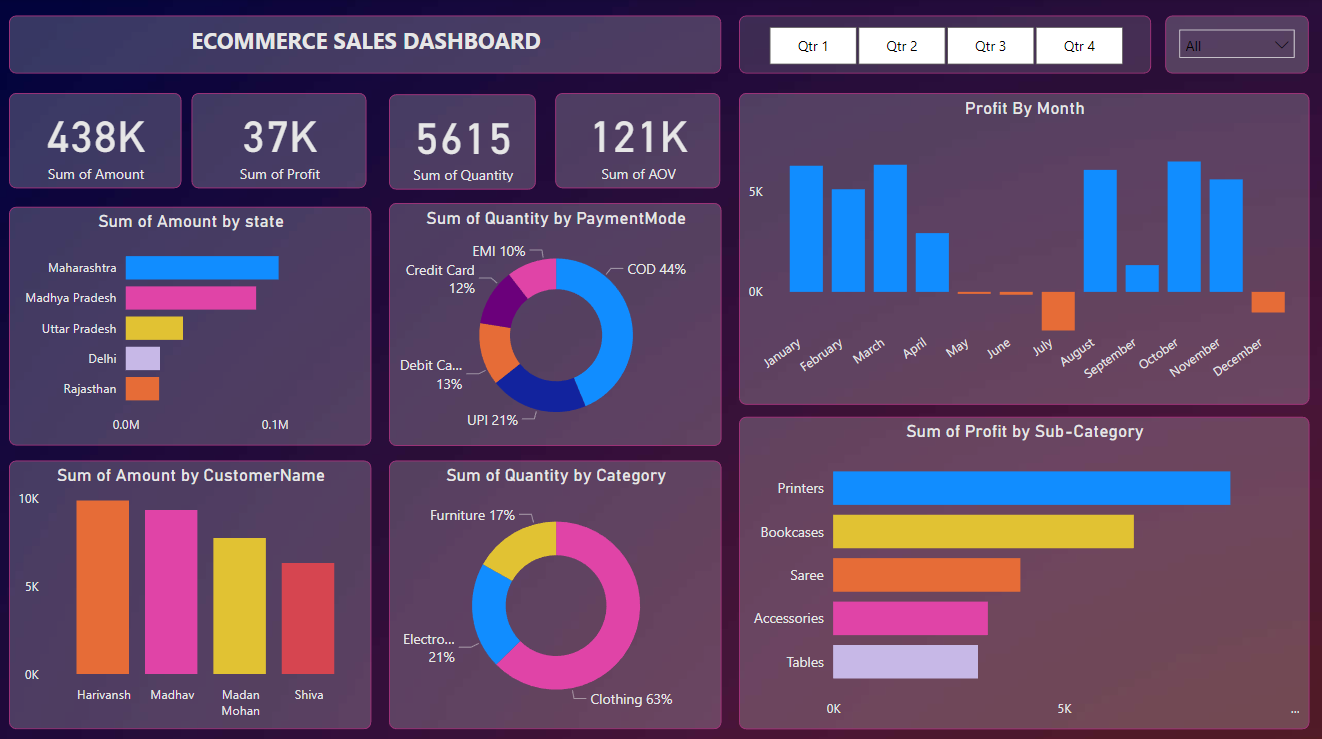

This screenshot's page, from the dashboard's own definition file:
{"tool":"powerbi","page":{"name":"Page 1","canvas":[1280,720],"ordinal":0},"visuals":[{"type":"textbox","box":[9.6,16.5,687.5,56.3],"z":0},{"type":"columnChart","title":"Profit By Month","fields":{"Category":["Orders.OrderDate.Variation.Date Hierarchy.Month"],"Y":["Details.Profit"]},"box":[713.6,91.9,550.3,300.5],"z":1000},{"type":"barChart","fields":{"Category":["Details.Sub-Category"],"Y":["Details.Profit"]},"box":[713.6,403.4,550.3,301.9],"z":2000},{"type":"donutChart","fields":{"Category":["Details.Category"],"Y":["Details.Quantity"]},"box":[376,446,321.1,259.3],"z":3000},{"type":"donutChart","fields":{"Y":["Details.Quantity"],"Category":["Details.PaymentMode"]},"box":[376,197.6,321.1,234.6],"z":4000},{"type":"card","fields":{"Values":["Details.Amount"]},"box":[9.6,91.9,166,91.9],"z":5000},{"type":"card","fields":{"Values":["Details.Profit"]},"box":[185.2,91.9,168.8,91.9],"z":6000},{"type":"card","fields":{"Values":["Details.Quantity"]},"box":[376,93.3,141.3,91.9],"z":7000},{"type":"card","fields":{"Values":["Details.AVERAGEorderValue"]},"box":[536.5,91.9,159.2,91.9],"z":8000},{"type":"barChart","fields":{"Category":["Orders.state"],"Y":["Details.Amount"]},"box":[9.6,201.7,349.9,230.5],"z":9000},{"type":"columnChart","fields":{"Category":["Orders.CustomerName"],"Y":["Details.Amount"]},"box":[9.6,446,349.9,259.3],"z":10000},{"type":"slicer","fields":{"Values":["Orders.OrderDate.Variation.Date Hierarchy.Quarter"]},"box":[713.6,16.5,397.9,56.3],"z":11000},{"type":"slicer","fields":{"Values":["Orders.state"]},"box":[1125.2,16.5,138.6,56.3],"z":12000}]}

Visuals, with their boxes in screenshot pixels (x1, y1, x2, y2), scaled from the page's 1280x720 canvas onto the 1322x739 screenshot:
textbox: 10/17/720/75
"Profit By Month" columnChart: 737/94/1305/403
barChart - Details.Sub-Category x Details.Profit: 737/414/1305/724
donutChart - Details.Category x Details.Quantity: 388/458/720/724
donutChart - Details.Quantity x Details.PaymentMode: 388/203/720/444
card - Details.Amount: 10/94/181/189
card - Details.Profit: 191/94/366/189
card - Details.Quantity: 388/96/534/190
card - Details.AVERAGEorderValue: 554/94/719/189
barChart - Orders.state x Details.Amount: 10/207/371/444
columnChart - Orders.CustomerName x Details.Amount: 10/458/371/724
slicer - Orders.OrderDate.Variation.Date Hierarchy.Quarter: 737/17/1148/75
slicer - Orders.state: 1162/17/1305/75
